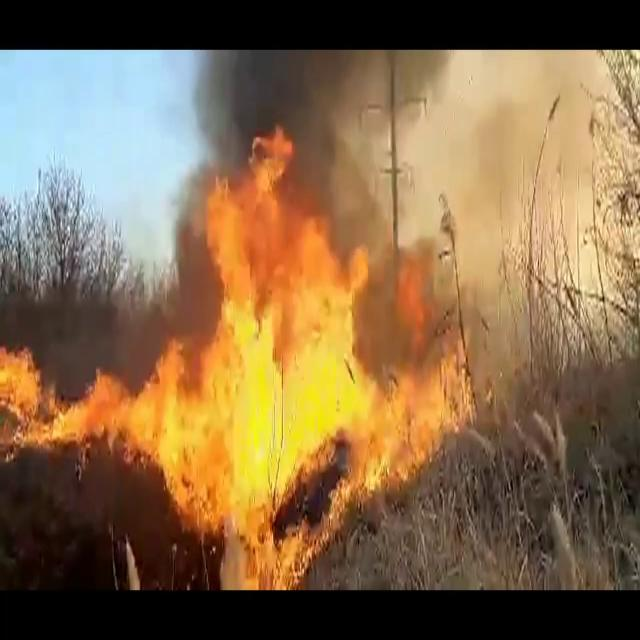Fire: (138, 126, 424, 554), (0, 334, 149, 470)
Smoke: (395, 53, 640, 354), (166, 49, 403, 224)
